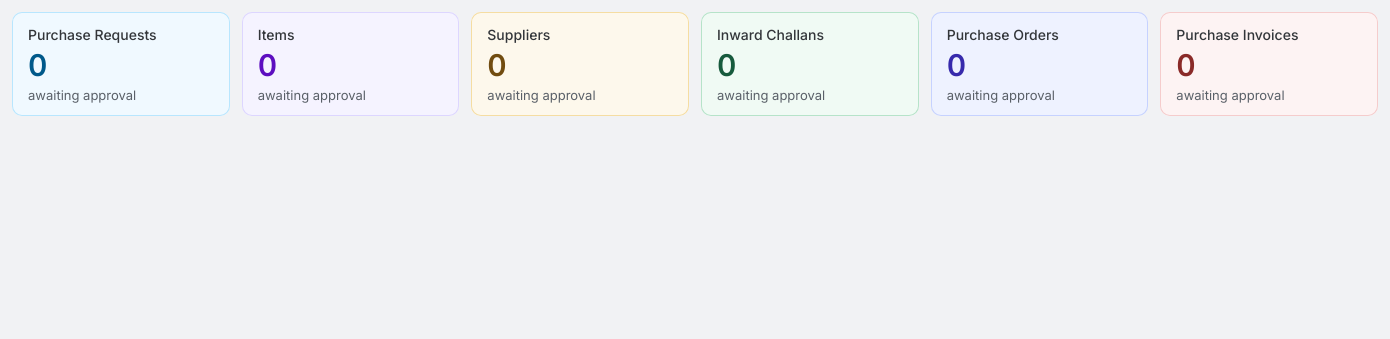
it: DashboardPage › uses the legacy empty-state sentence
Click the button "Items 0 awaiting approval" at (351, 64), box [242,12,459,116]
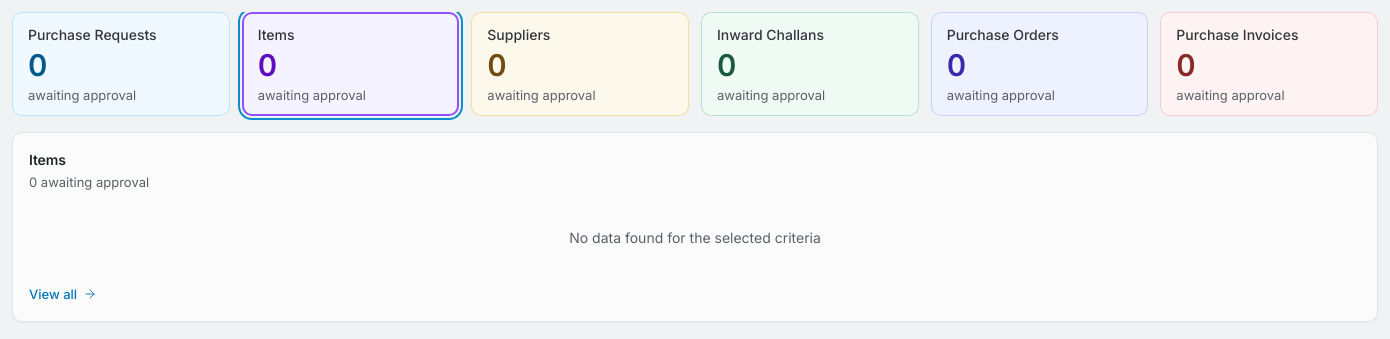
Expected: the text "No data found for the selected criteria" is shown, [569,229,821,246]
